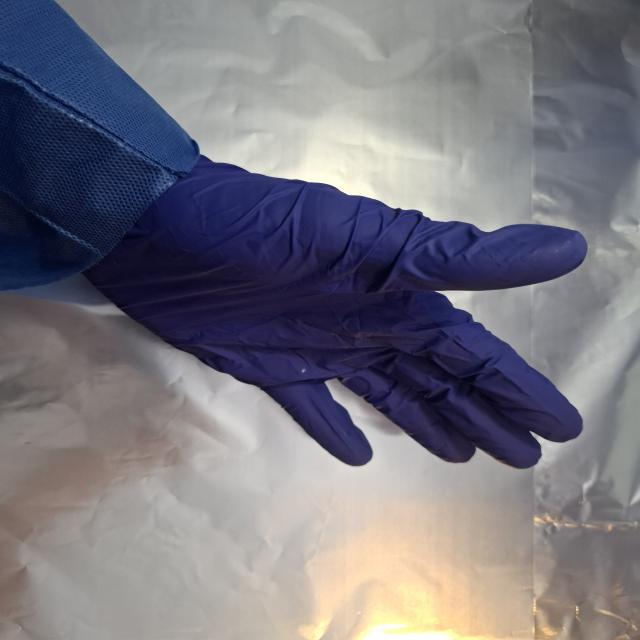glove_on: (82, 148, 592, 474)
